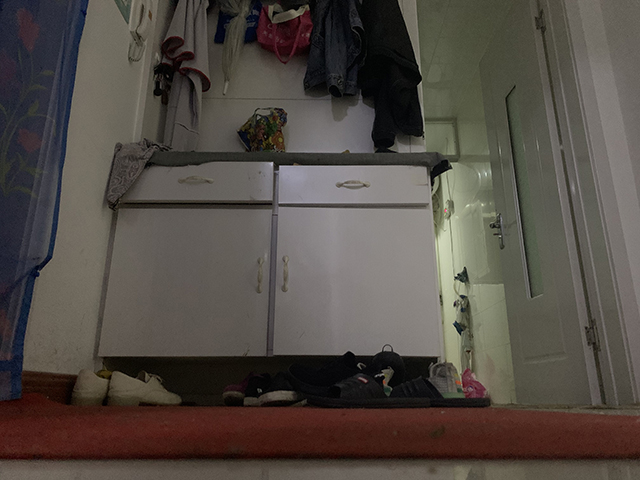cabinet: (92, 136, 453, 397)
carpet: (1, 389, 640, 461)
slippers: (305, 370, 492, 409)
